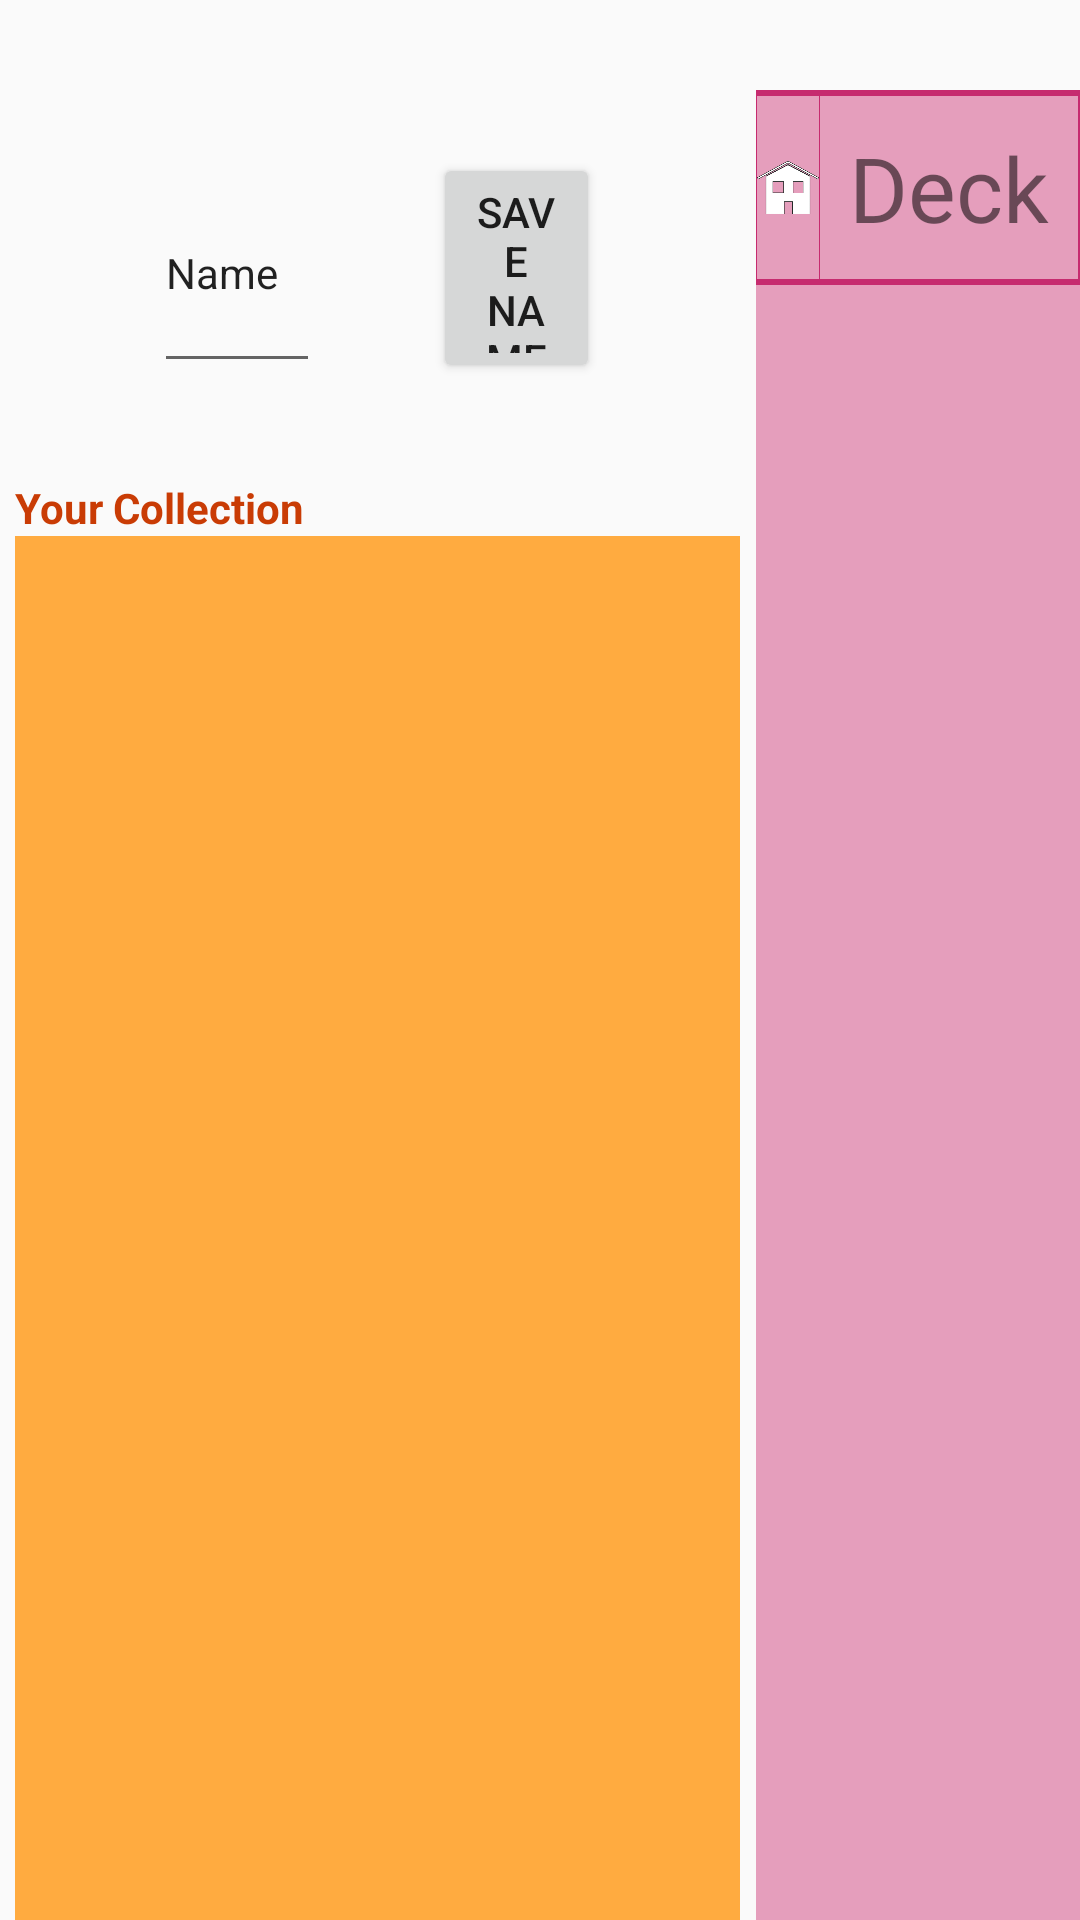

Screen size 1080x1920. Icon name, then its box in pixels as (left=x1, top=y1, right=x2, bottom=y2):
homebutton: (left=757, top=161, right=819, bottom=214)
